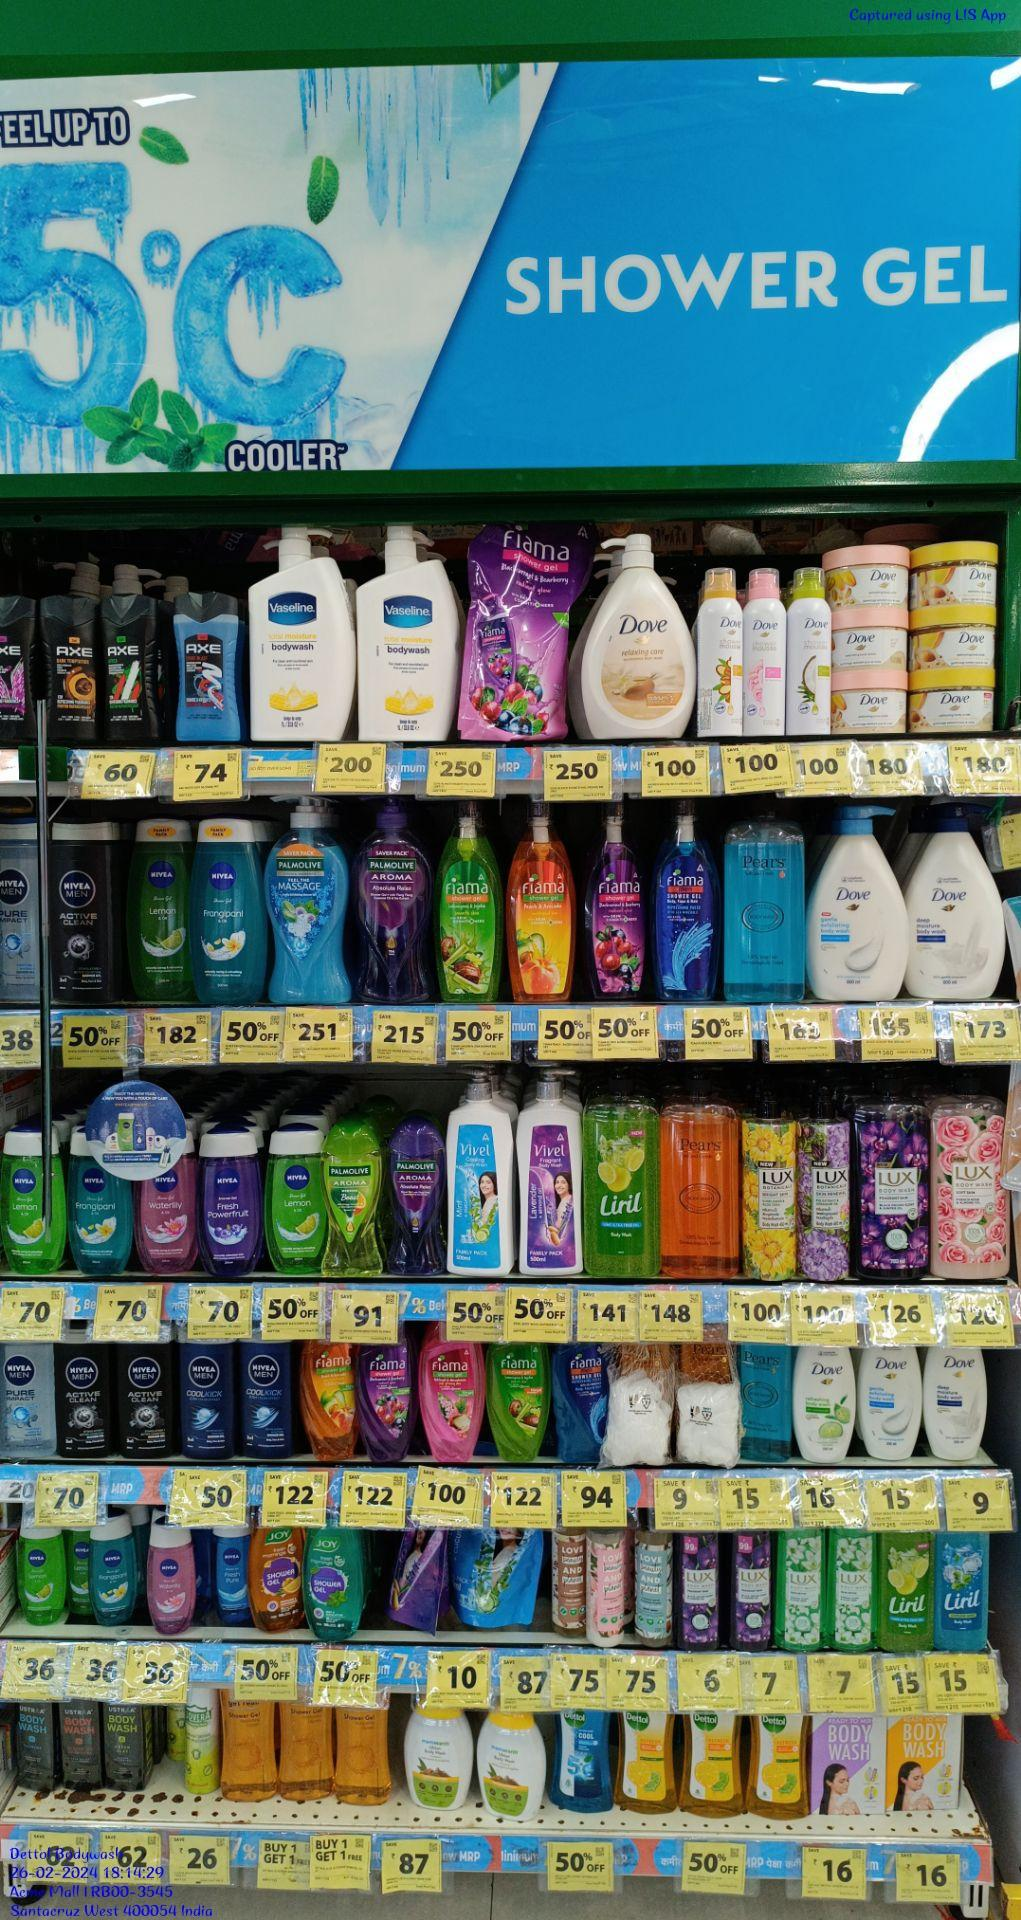Dettol_Bodywash_Cool: (550, 1708, 612, 1813)
Dettol_Bodywash_Refresh: (748, 1710, 811, 1821), (616, 1707, 674, 1811), (686, 1709, 740, 1818)
Dove_Deep_Moisture_Body_Wash_250ML: (928, 1342, 985, 1465)
Dove_Gentle_Exfoliating_Body_Wash_250ML: (861, 1341, 919, 1462)
Dove_Refreshing_Body_Wash_250ML: (794, 1340, 852, 1467)
Fiama_Shower_Gel_Lemongrass_and_Jojoba_250ML: (489, 1341, 545, 1464)
Fiama_Shower_Gel_Patchouli_and_Macadamia_250ML: (422, 1327, 481, 1464)
Fiama_Shower_Gel_Peach_and_Avocado_250ML: (298, 1341, 354, 1463)
Joy_Shower_Gel_Mandarin_and_Lemongrass_250ML: (249, 1516, 302, 1636)
Joy_Shower_Gel_Mint_and_Eucalyptus_250ML: (302, 1521, 363, 1646)
Liril_Cooling_Mint_Body_Wash_250ML: (935, 1524, 988, 1652)
Liril_Lime_and_Tea_Tree_Oil_Body_Wash_250ML: (884, 1528, 932, 1653)
Lux_Black_Orchid_Scent_and_Juniper_Oil_Body_Wash_245ML: (676, 1530, 723, 1653), (731, 1526, 775, 1653)
Lux_Body_Wash_Skin_Detox_Freesia_Scent_and_Alove_Vera_245ML: (780, 1528, 825, 1653), (831, 1533, 878, 1653)
Nivea_Shower_Gel_Frangipani_and_Oil_250ML: (197, 817, 265, 1008), (70, 1131, 124, 1276), (90, 1514, 138, 1625)
Nivea_Shower_Gel_Fresh_Powerfruit_250ML: (199, 1131, 263, 1275)
Nivea_Shower_Gel_Lemon_and_Oil_250ML: (130, 819, 194, 1007), (1, 1131, 61, 1275), (272, 1117, 323, 1275), (17, 1519, 63, 1627)
Nivea_Shower_Gel_Waterlily_and_Oil_250ML: (143, 1138, 197, 1283), (146, 1519, 192, 1637)
Palmolive_Aroma_Morning_Tonic_Shower_Gel_250ML: (324, 1125, 382, 1279)
Palmolive_Aroma_Relax_250ML: (385, 1124, 447, 1277)
